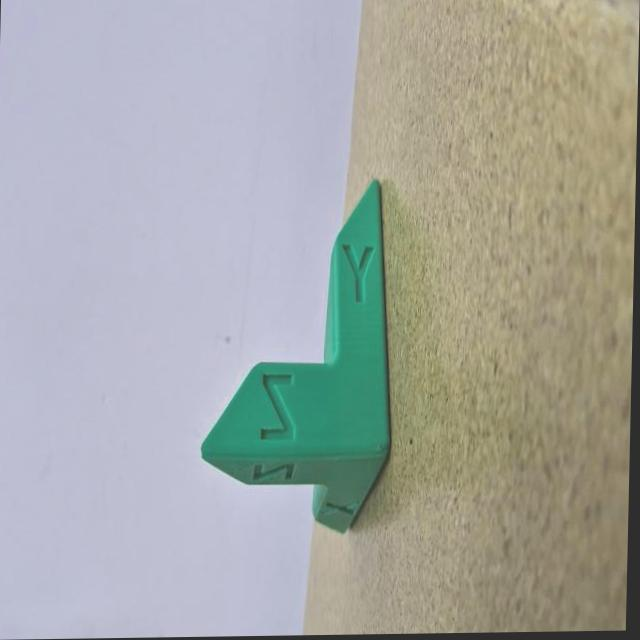eje: (191, 169, 399, 542)
